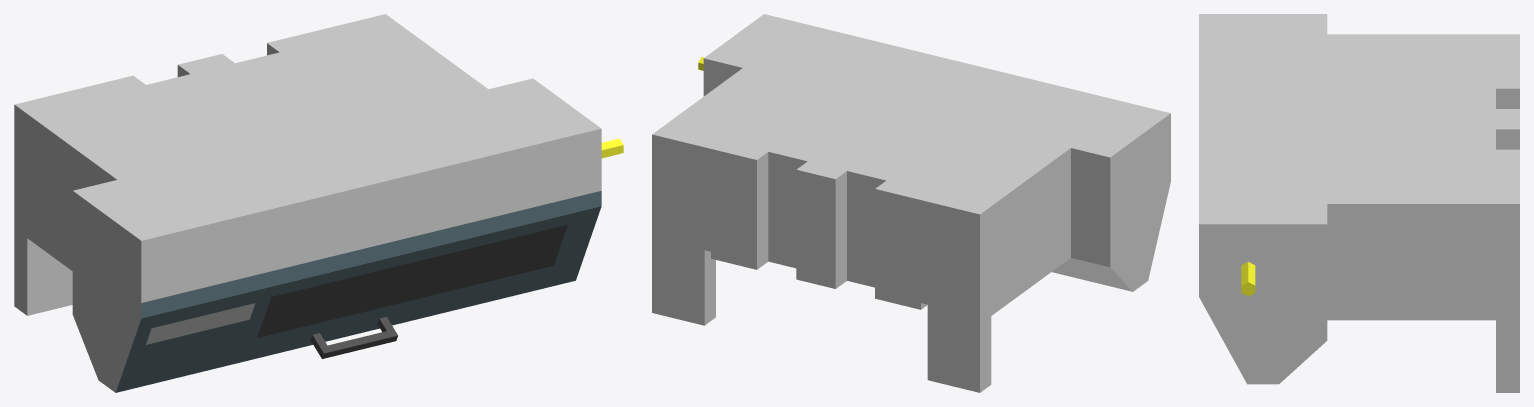
File: bar_feeder_6.dae
3 renders of one model, left to right at view 1: azimuth 30°, elevation 25°; view 2: azimuth 150°, elevation 25°; view 3: azimuth 270°, elevation 25°, orthographic. The views are drawn at different scales.
Visible parts, largest first — view 1: coords_ME_ID3_MA_material_8, coords_ME_ID33_MA_material_16, coords_ME_ID19_MA_material, coords_ME_ID41_MA_material_8, coords_ME_ID11_MA_material; view 2: coords_ME_ID3_MA_material_8; view 3: coords_ME_ID3_MA_material_8, coords_ME_ID25_MA_material_3.
Boxes of the visible parts, x1,y1,x2,y2 form: coords_ME_ID3_MA_material_8: [14, 14, 601, 392]; coords_ME_ID33_MA_material_16: [116, 191, 601, 392]; coords_ME_ID19_MA_material: [257, 224, 567, 337]; coords_ME_ID41_MA_material_8: [146, 303, 255, 344]; coords_ME_ID11_MA_material: [310, 317, 397, 358]; coords_ME_ID3_MA_material_8: [652, 14, 1170, 392]; coords_ME_ID3_MA_material_8: [1199, 14, 1519, 392]; coords_ME_ID25_MA_material_3: [1241, 262, 1255, 296].
Bounding box in the file's own units: 21.42 × 8.19 × 12.6.
